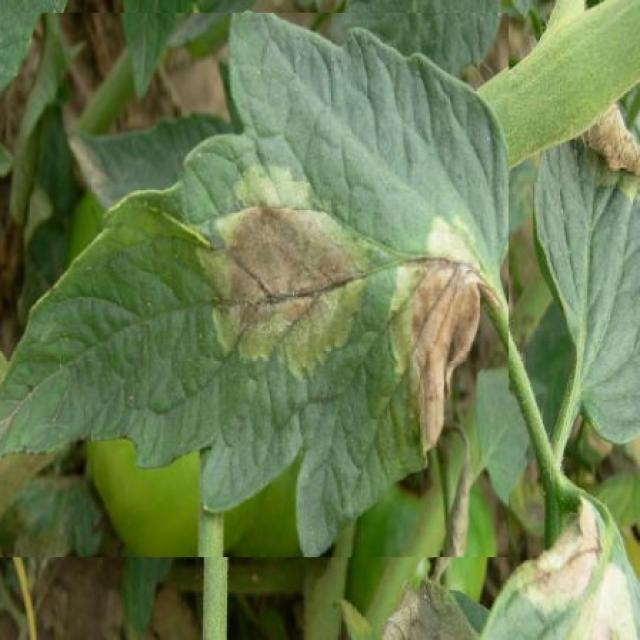Late Blight: (0, 13, 509, 557)
